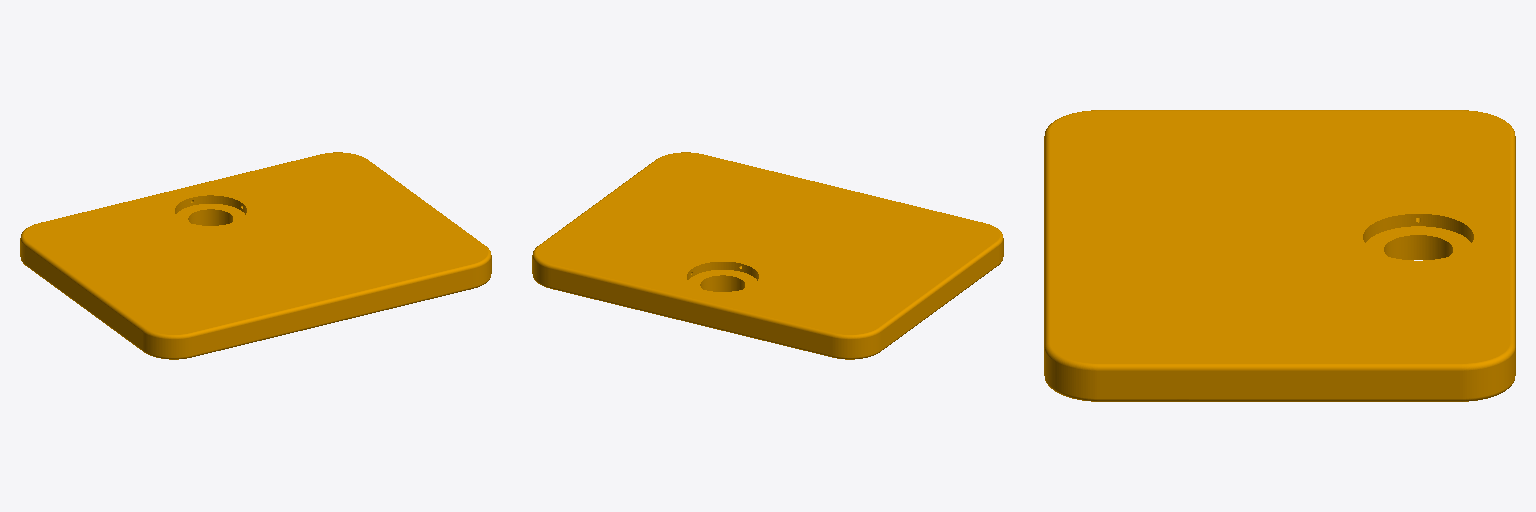
URDF robot description (workobject):
<?xml version="1.0"?>
<robot name="workobject">
  <link name="workobject_link">

    <inertial>
      <mass value="0.2"/>
      <origin xyz="0 0 0"/>
      <inertia
        ixx="0.001" ixy="0" ixz="0"
        iyy="0.001" iyz="0"
        izz="0.001"/>
    </inertial>

    <visual>
      <origin xyz="0 0 0" rpy="0 0 0"/>
      <geometry>
        <mesh filename="package://workobject/meshes/workobject.stl" scale="0.001 0.001 0.001"/>
      </geometry>
    </visual>

    <collision>
      <origin xyz="0 0 0" rpy="0 0 0"/>
      <geometry>
        <mesh filename="package://workobject/meshes/workobject.stl" scale="0.001 0.001 0.001"/>
      </geometry>
    </collision>

  </link>
</robot>

--- What the picture shows (computed from the rendered views, not written in the file) ---
3 views of the same robot in one strip: view 1: azimuth 30°, elevation 25°; view 2: azimuth 150°, elevation 25°; view 3: azimuth 270°, elevation 25° (orthographic).
Model workobject with 1 links and 0 joints (none), rooted at workobject_link, posed all joints at 0.
Visible links, largest first — view 1: workobject_link; view 2: workobject_link; view 3: workobject_link.
Link boxes in pixels (x1,y1,x2,y2): workobject_link: [20, 152, 491, 359]; workobject_link: [532, 152, 1003, 359]; workobject_link: [1044, 110, 1515, 401].
Bounding box of the posed robot: 0.22 × 0.17 × 0.015 m (x, y, z).
Meshes: 1 distinct files referenced, 1 mesh visuals loaded (1 binary STL).